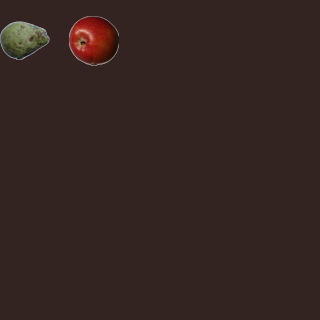Apple Braeburn: (68, 15, 118, 65)
Pear Stone: (0, 15, 49, 65)
